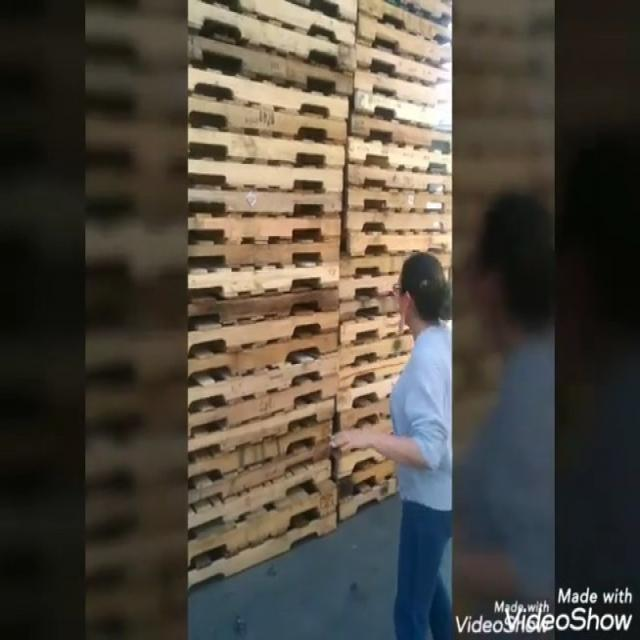Palette: (185, 0, 341, 602), (348, 0, 454, 505)
